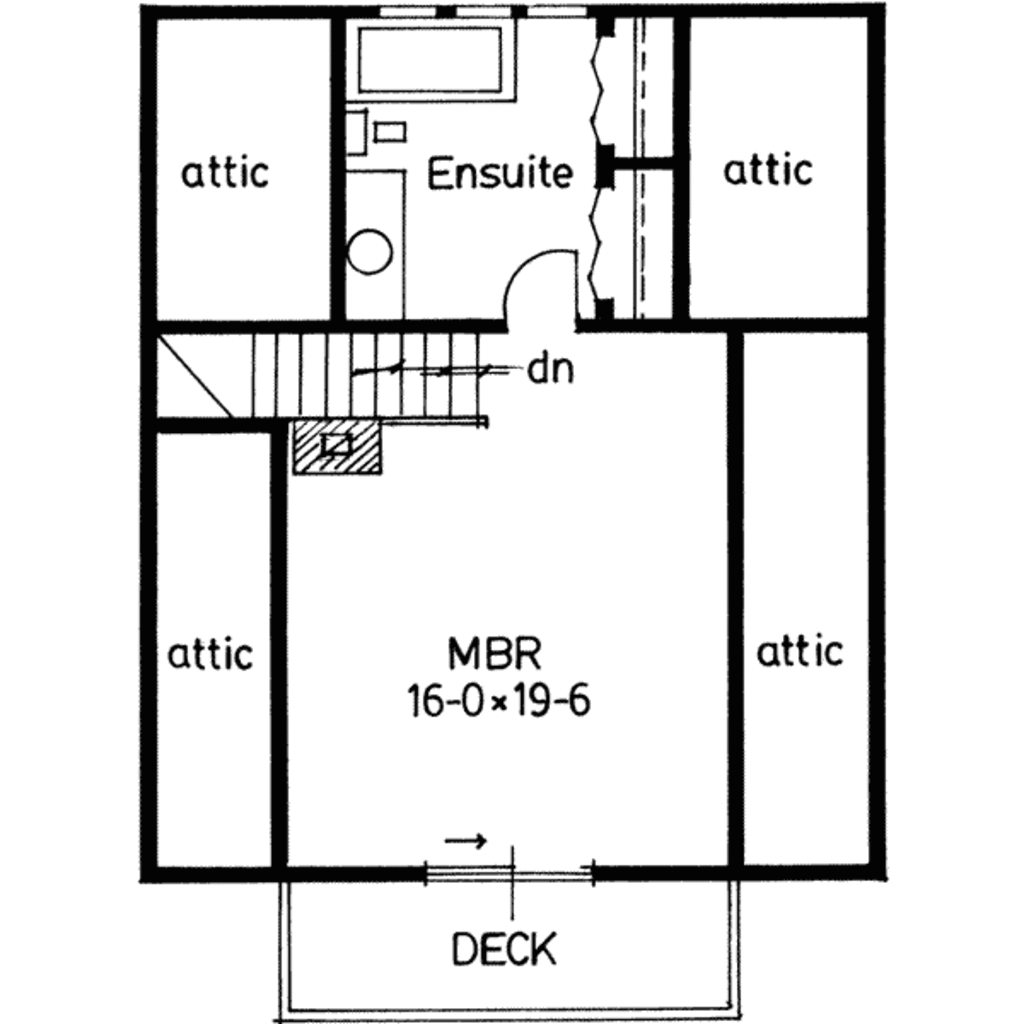door: (494, 244, 586, 327)
large_sink: (344, 105, 417, 161)
small_sink: (342, 167, 414, 317)
stairs: (153, 321, 513, 475)
tub: (344, 21, 523, 105)
window: (458, 1, 525, 27), (523, 1, 592, 24), (378, 1, 447, 22)
